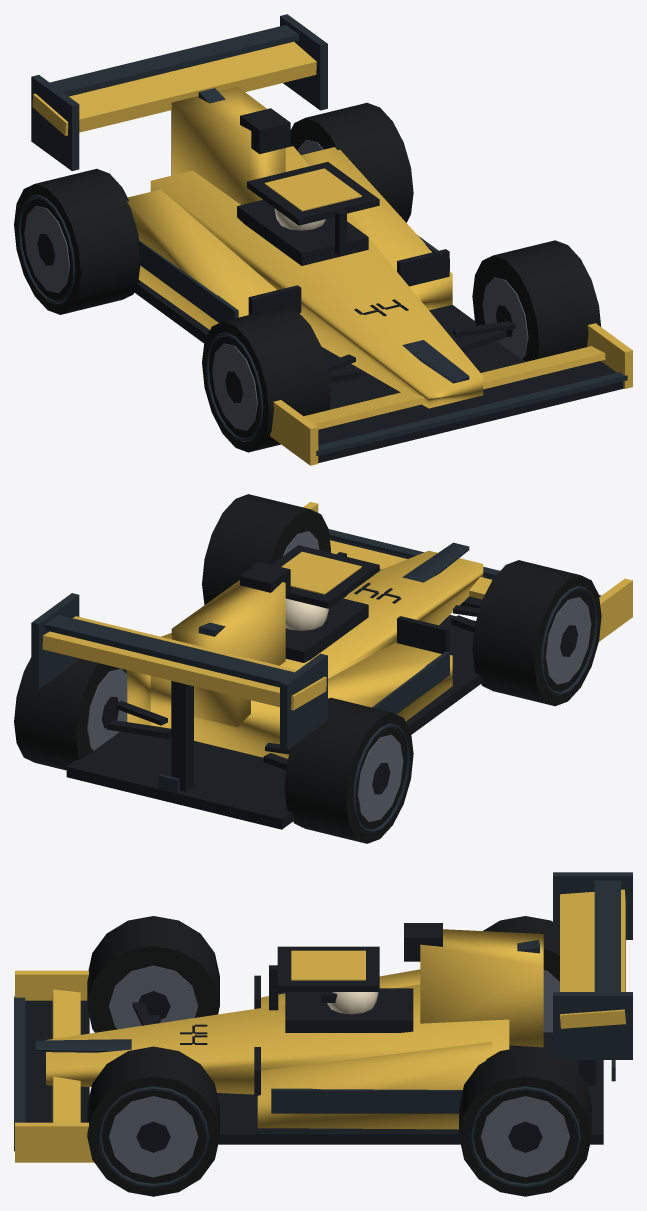
File: solstice-44.glb
3 views of the same model, one above another, from view 1: azimuth 30°, elevation 25°; view 2: azimuth 150°, elevation 25°; view 3: azimuth 270°, elevation 25° (orthographic).
Parts seen in each view (by area): view 1: formula-44, wheel (×4); view 2: formula-44, wheel (×4); view 3: formula-44, wheel (×4).
Boxes of the visible parts, left/top/right/bottom form: formula-44: left=31, top=14, right=632, bottom=465; wheel (×4): left=14, top=102, right=601, bottom=452; formula-44: left=31, top=502, right=632, bottom=829; wheel (×4): left=14, top=494, right=601, bottom=843; formula-44: left=14, top=872, right=632, bottom=1162; wheel (×4): left=87, top=916, right=591, bottom=1196.
Size of the model in its own units: 3.37 by 1.79 by 5.41.
